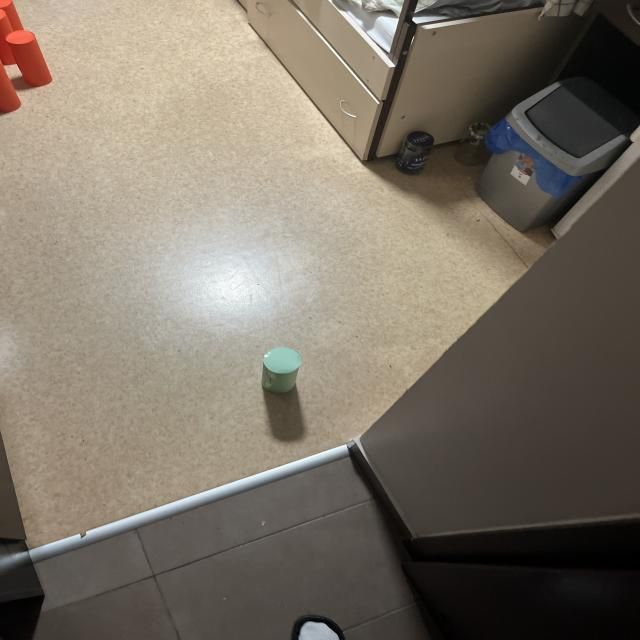meta: (262, 347, 301, 393)
